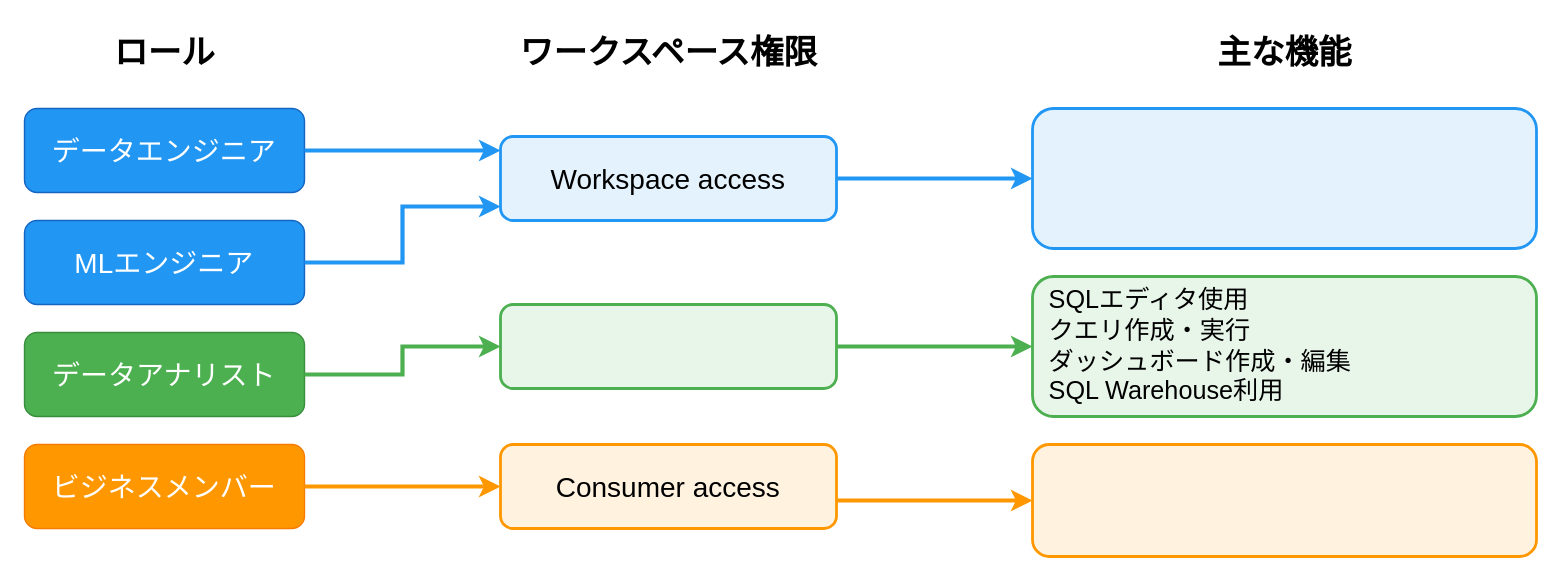
The diagram is 1562 pixels wide and 581 high, and some of its shapes have lost their labels. Here are the shapes that lost their labels. From the top down, the centre of each, then its label:
point 1283,177: ノートブック作成 Python/Scala/R実行 ジョブ・パイプライン作成 MLモデル開発
point 667,345: Databricks SQL access
point 1283,499: 共有ダッシュボード閲覧 Genie spaces表示 Databricksアプリ表示
